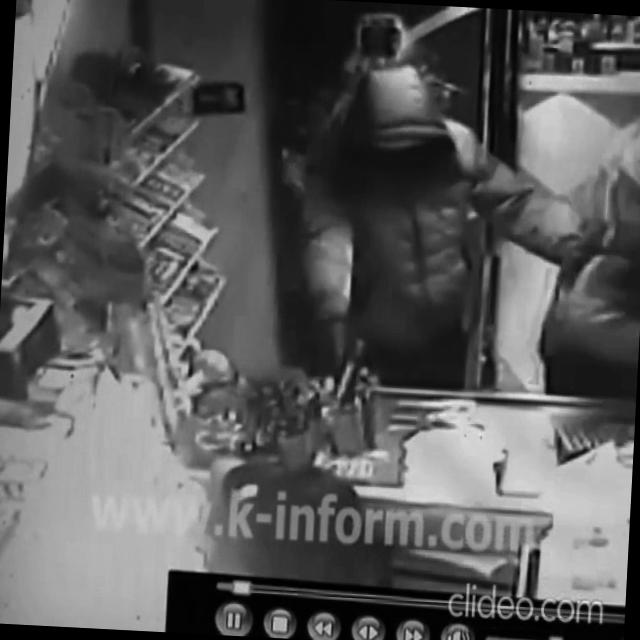gun: (324, 323, 374, 417)
person: (286, 59, 600, 398), (533, 107, 640, 402)
person with a gun: (286, 58, 600, 430)
